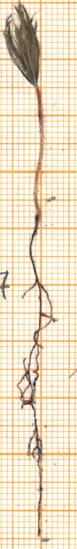flower: (0, 0, 58, 90)
root: (15, 201, 55, 540)
stem: (26, 84, 51, 202)
